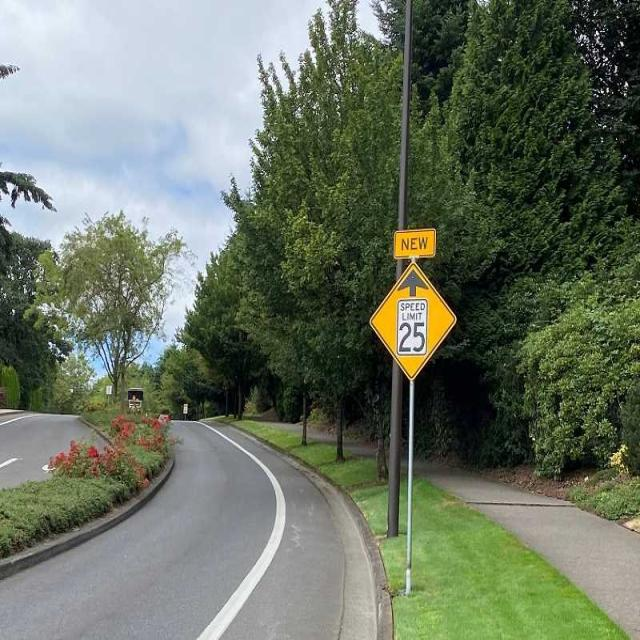speedLimit25: (397, 298, 425, 353)
